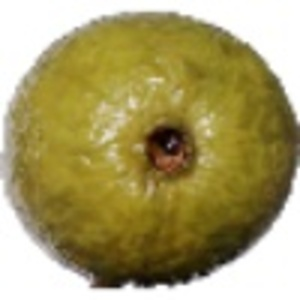goiaba: (5, 8, 297, 286)
